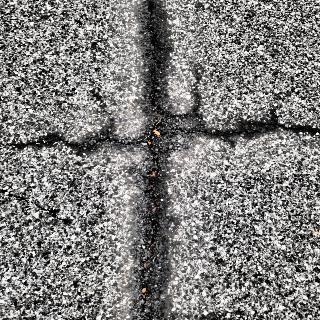crack: (16, 111, 312, 165), (130, 2, 164, 320), (0, 187, 71, 225)
